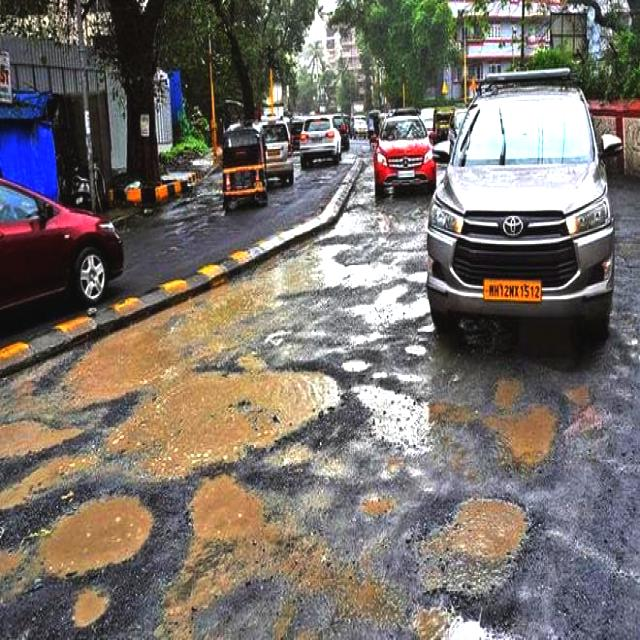Pothole: (48, 320, 434, 618)
